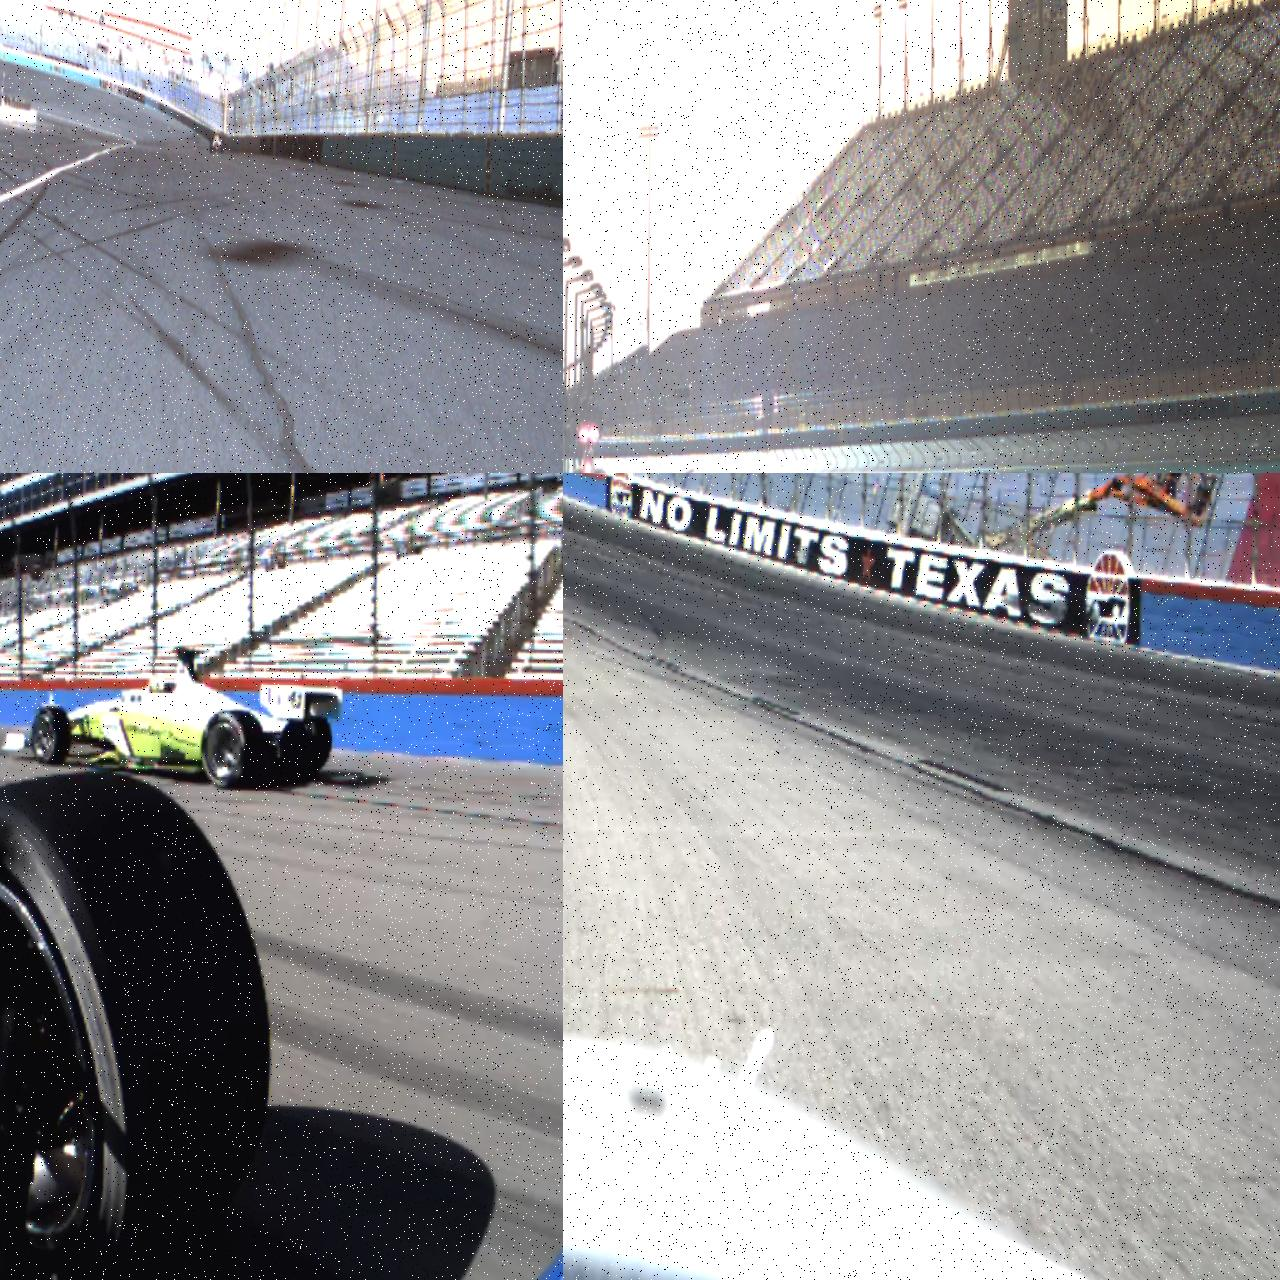AV: (1, 644, 345, 792), (563, 425, 646, 474), (210, 132, 225, 154)
Wheel: (0, 771, 274, 1280), (200, 710, 264, 791), (30, 706, 72, 765), (298, 715, 334, 774), (222, 142, 225, 154), (210, 143, 213, 152)
